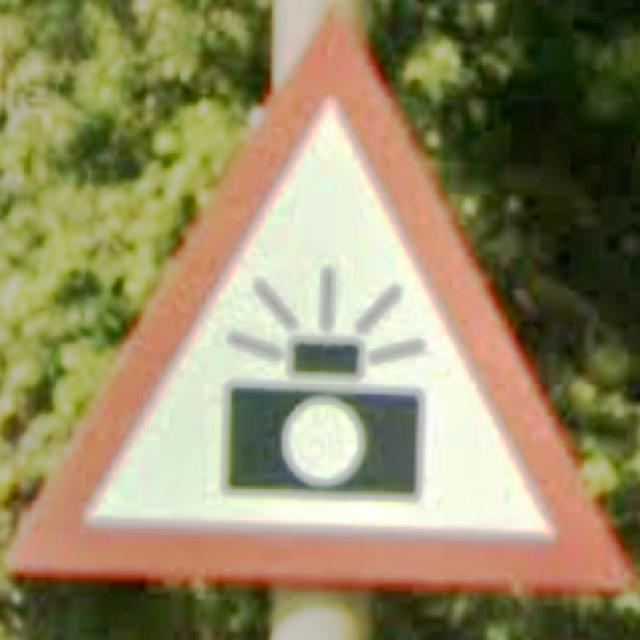speedcamera: (8, 0, 630, 592)
